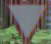Give way: (6, 0, 47, 43)
